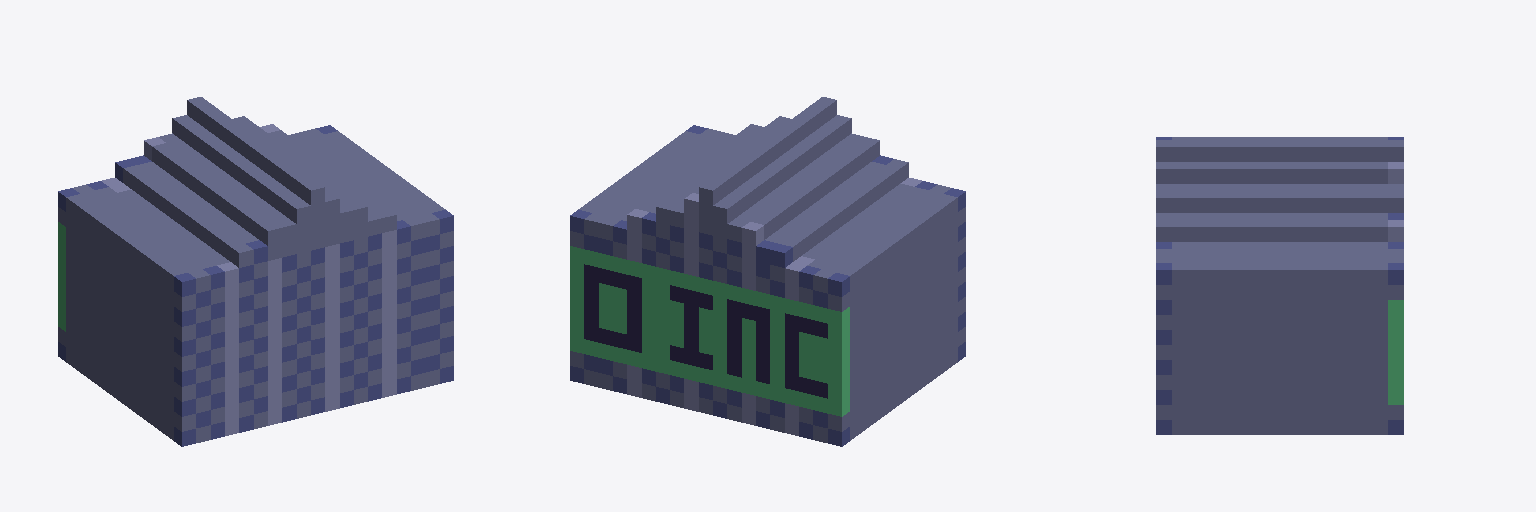
The picture shows the model from 3 angles: view 1: azimuth 30°, elevation 25°; view 2: azimuth 150°, elevation 25°; view 3: azimuth 270°, elevation 25°; orthographic projection.
Parts seen in each view (by area): view 1: object 1; view 2: object 1; view 3: object 1.
Part boxes in pixels (x1,y1,x2,y2): object 1: (58,97,453,446); object 1: (570,97,965,446); object 1: (1156,137,1403,434).
Bounding box in the file's own units: 1.9 × 1.5 × 1.5.
1 materials, 1 textured.